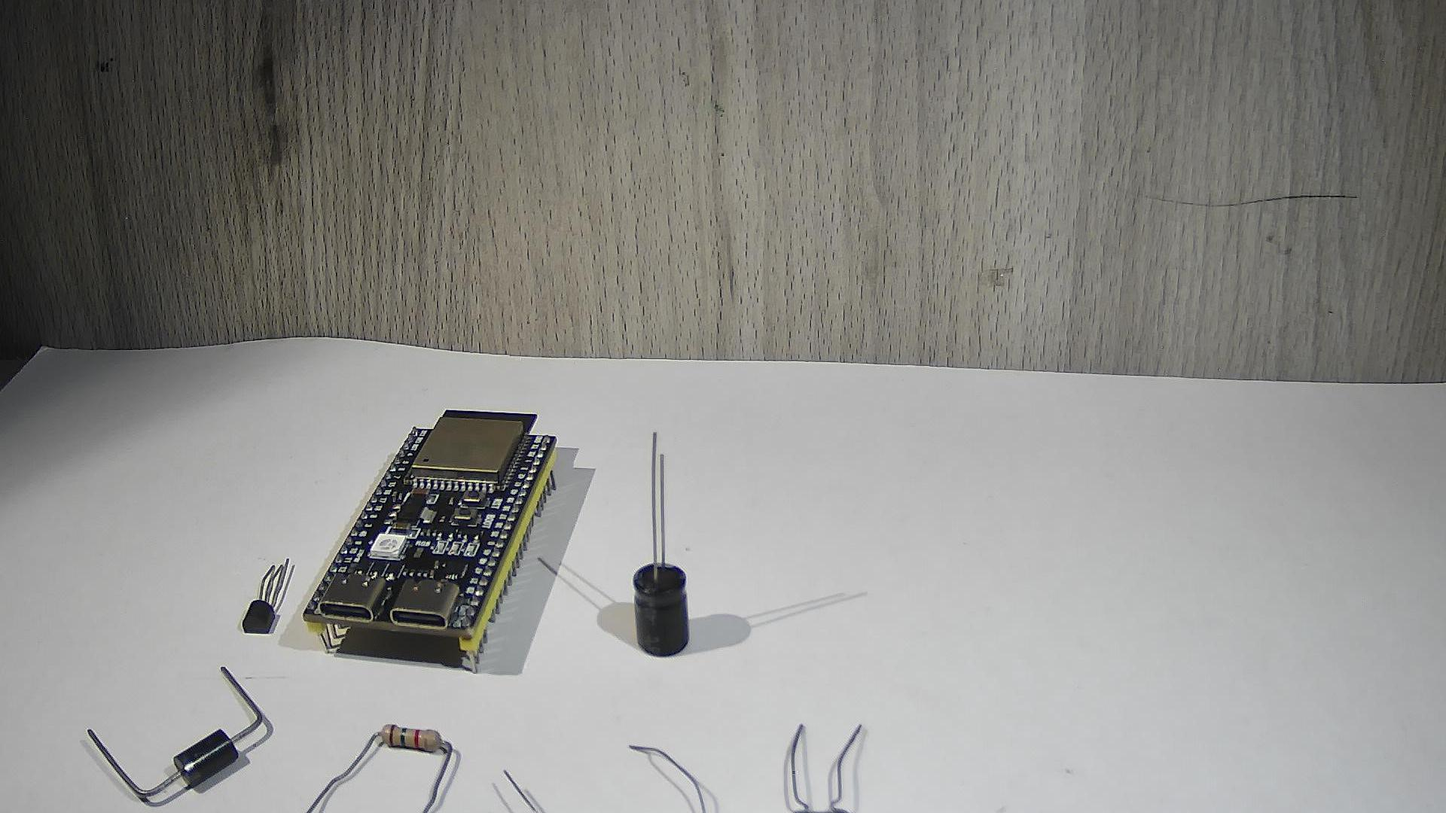Capacitor: (623, 424, 701, 685)
Diodo: (85, 660, 269, 813)
ESP32: (307, 389, 566, 673)
Resistencia: (291, 710, 460, 813), (495, 752, 729, 813)
Transistor: (241, 552, 295, 639)
capacitor ceramico: (763, 700, 890, 813)
